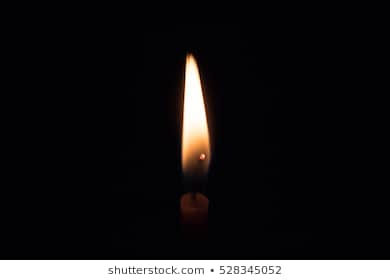Fire: (181, 51, 213, 175)
